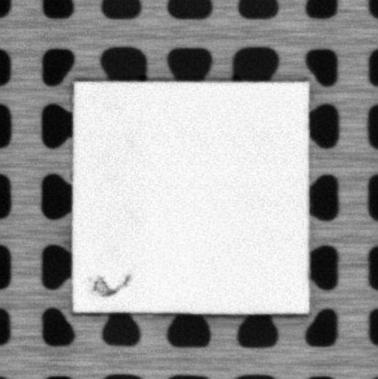DIE_INK: (91, 272, 135, 299)
